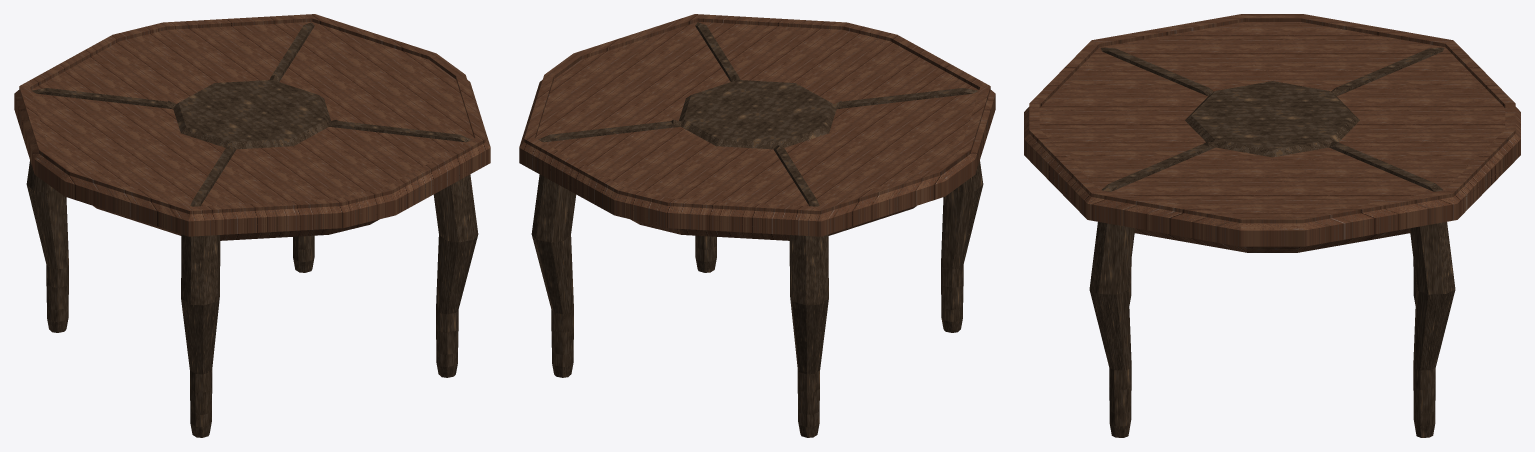
File: texturedTable.glb
3 renders of one model, left to right at view 1: azimuth 30°, elevation 25°; view 2: azimuth 150°, elevation 25°; view 3: azimuth 270°, elevation 25°, orthographic. The views are drawn at different scales.
Visible parts, largest first — view 1: Cube.010, Cube.009; view 2: Cube.010, Cube.009; view 3: Cube.010, Cube.009.
Boxes of the visible parts, x1,y1,x2,y2 form: Cube.010: [14, 14, 490, 240]; Cube.009: [26, 160, 478, 437]; Cube.010: [519, 14, 995, 240]; Cube.009: [531, 160, 983, 437]; Cube.010: [1024, 14, 1520, 252]; Cube.009: [1089, 222, 1455, 437].
Size of the model in its own units: 3.15 by 1.79 by 3.15.
Materials: 3 (3 with a texture image).
